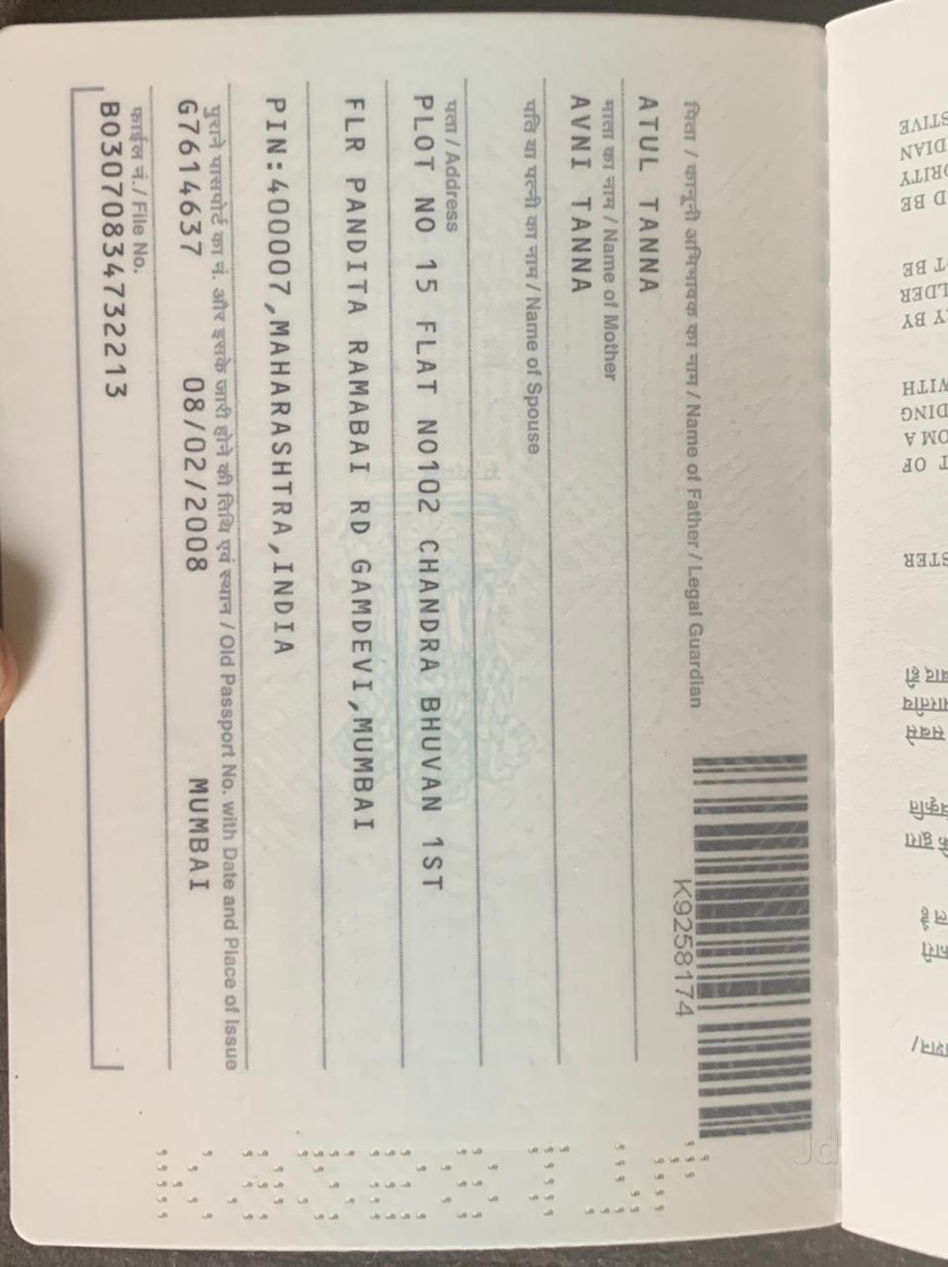File_no: (82, 76, 135, 439)
address: (241, 66, 465, 970)
father_name: (618, 72, 684, 314)
mother_name: (549, 77, 615, 313)
old_passport_details: (156, 87, 225, 942)
passport_no: (660, 848, 712, 1043)
